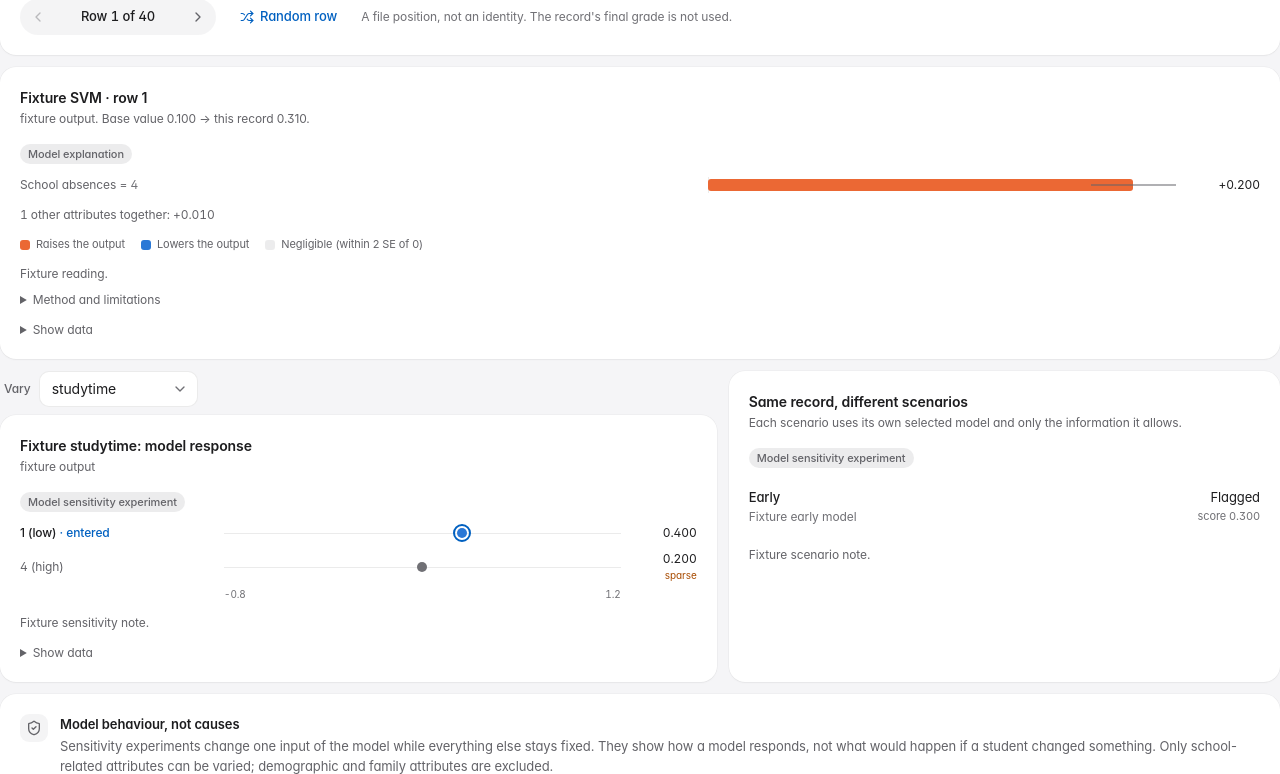
InterpretabilityView › runs the sensitivity experiment for the chosen attribute and marks sparse values
(page scrolled)
Expected: the text "Fixture studytime: model response" is shown, [20,437,252,454]
Expected: the text "sparse" is shown, [665,569,697,581]
Select "School absences" in the dropdown labelled "Vary" at (118, 389), box [39,371,198,407]
(page scrolled)
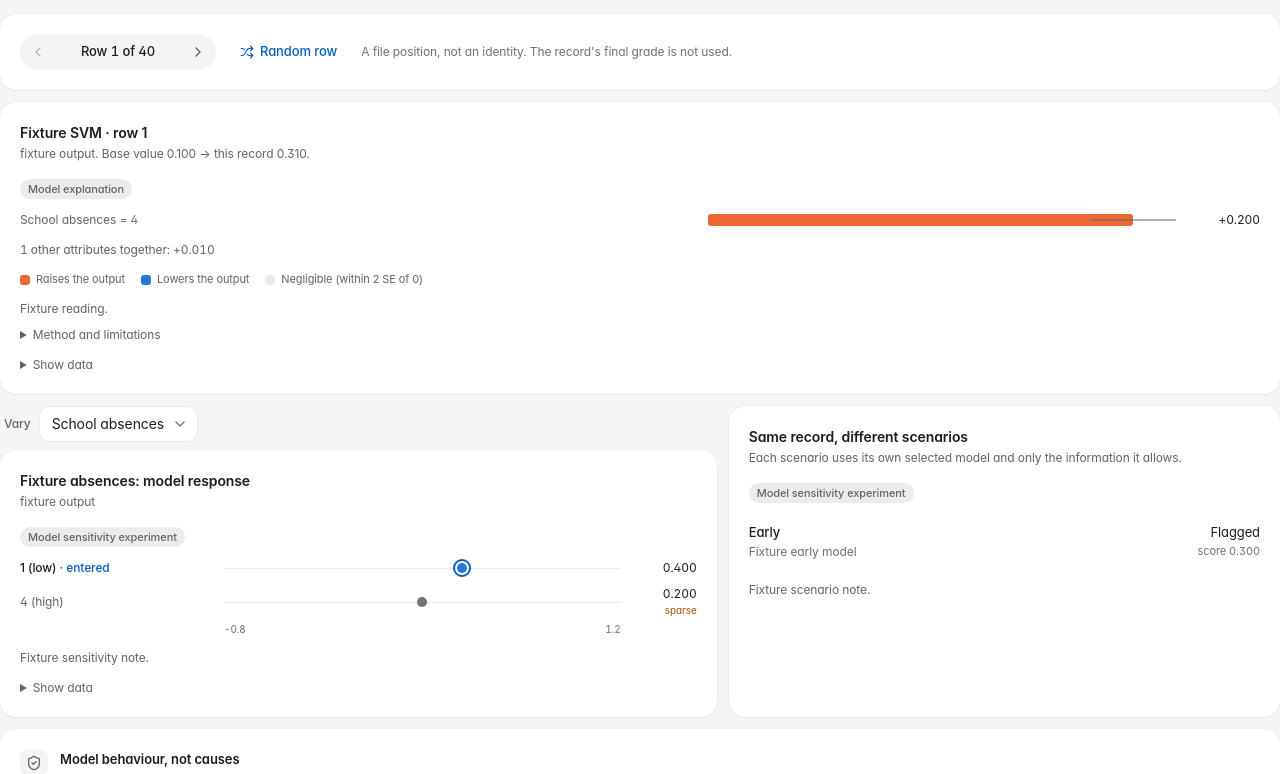
Expected: the text "Fixture absences: model response" is shown, [20,472,250,489]
